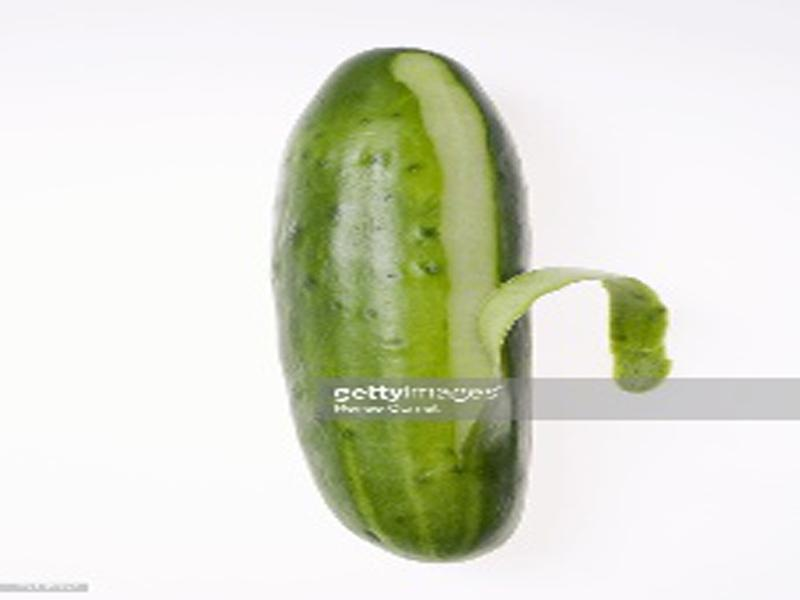Cucumber: (275, 45, 536, 563)
